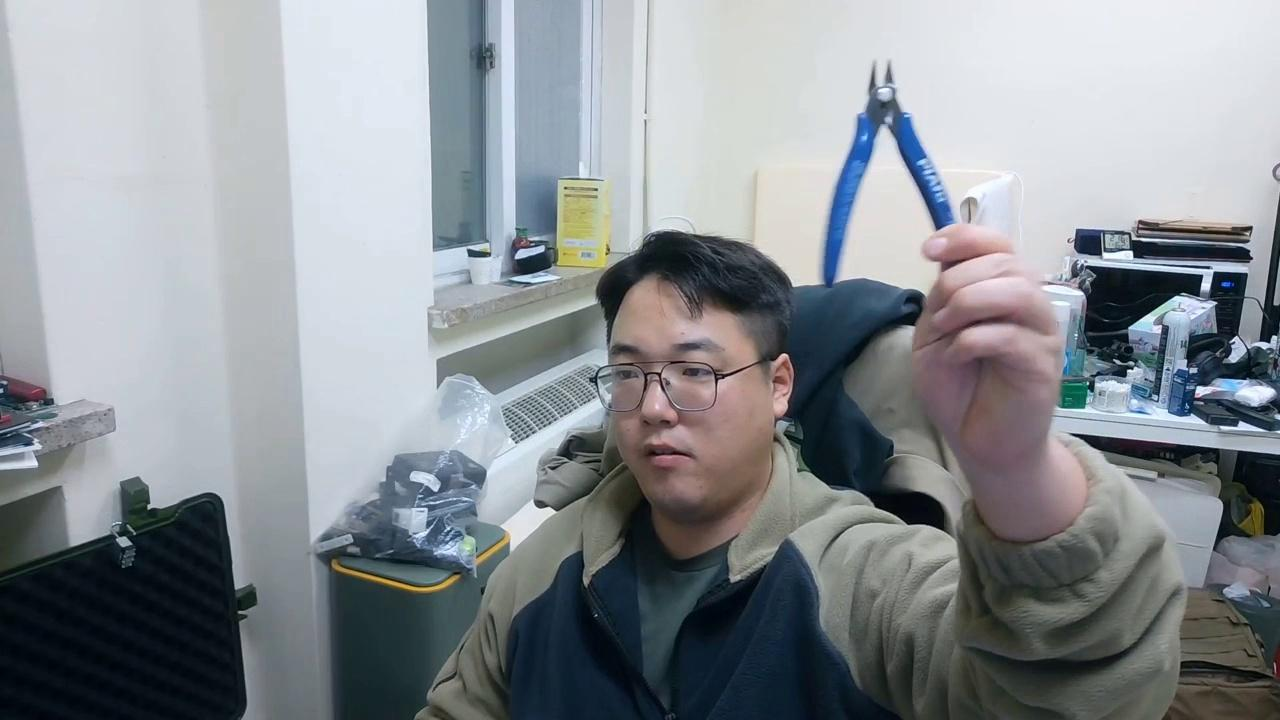blue_pliers: (820, 57, 959, 288)
